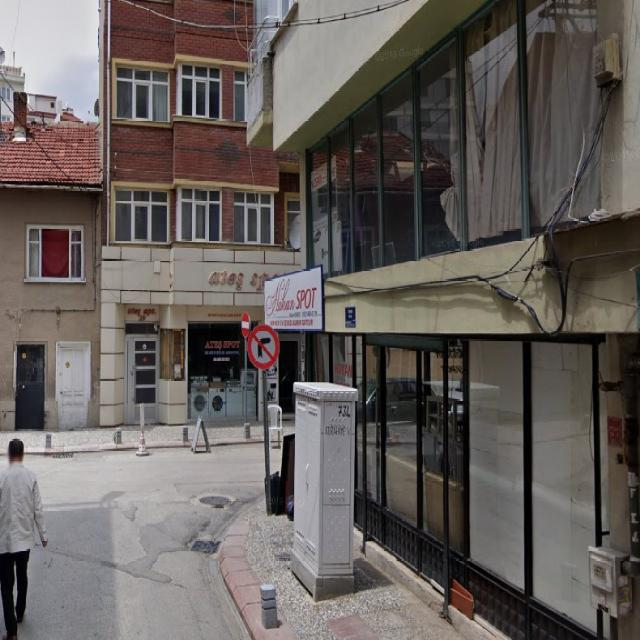girisyok: (241, 311, 249, 339)
sagadonulmez: (247, 324, 279, 369)
